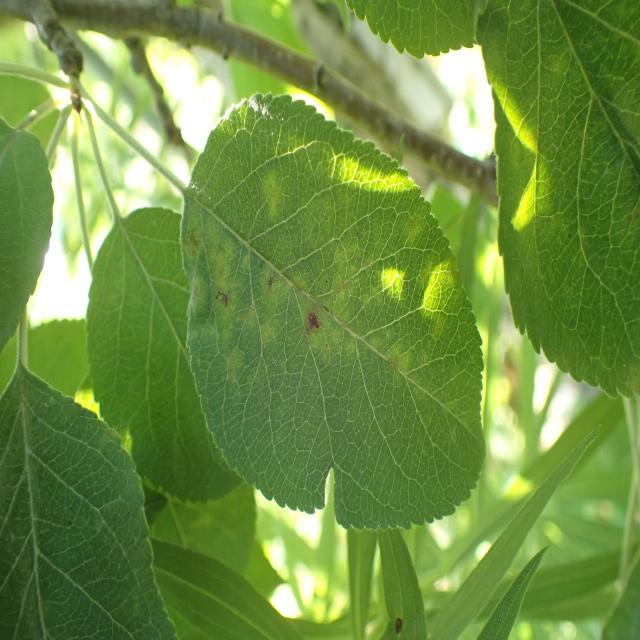scab: (176, 136, 427, 456)
